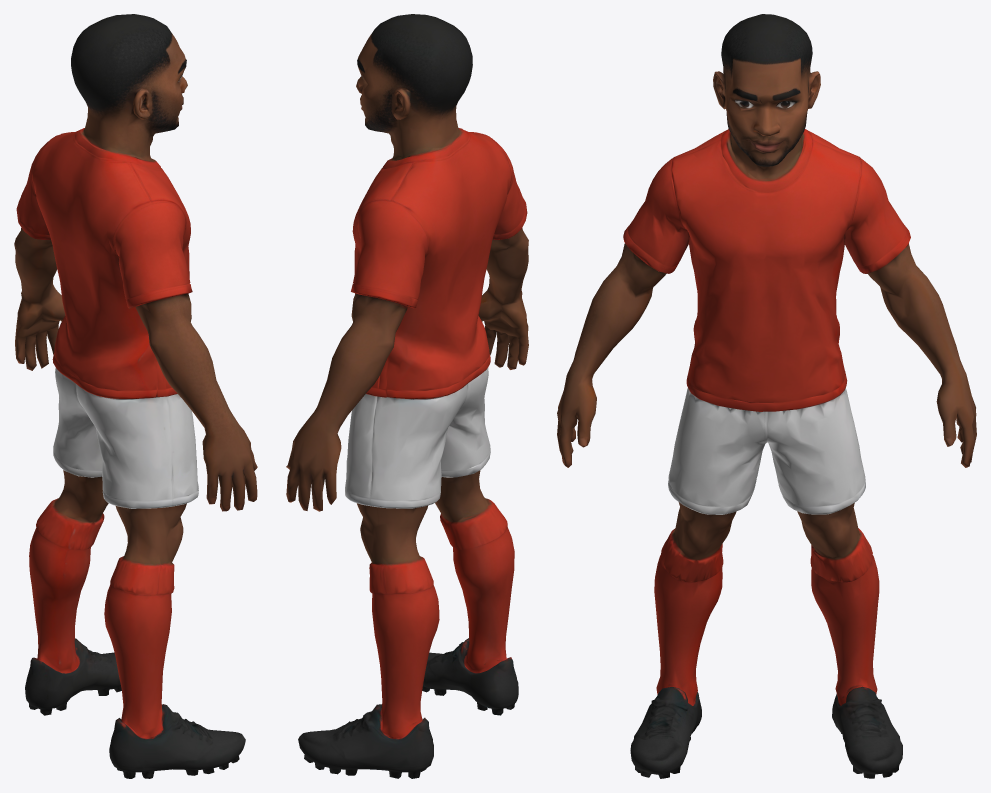
Rendered from gen.glb.
The picture shows the model from 3 angles, left to right: view 1: azimuth 30°, elevation 25°; view 2: azimuth 150°, elevation 25°; view 3: azimuth 270°, elevation 25°; orthographic projection. The views are drawn at different scales.
Parts seen in each view (by area): view 1: tripo_node_36e0bdba-df7c-4203-80d8-733e7f2ff39a; view 2: tripo_node_36e0bdba-df7c-4203-80d8-733e7f2ff39a; view 3: tripo_node_36e0bdba-df7c-4203-80d8-733e7f2ff39a.
Boxes of the visible parts, x1,y1,x2,y2 form: tripo_node_36e0bdba-df7c-4203-80d8-733e7f2ff39a: (14,14,257,778); tripo_node_36e0bdba-df7c-4203-80d8-733e7f2ff39a: (286,14,528,778); tripo_node_36e0bdba-df7c-4203-80d8-733e7f2ff39a: (557,14,976,778).
Bounding box in the file's own units: 0.1777 × 0.9796 × 0.5087.
Materials: 1 (1 with a texture image).
